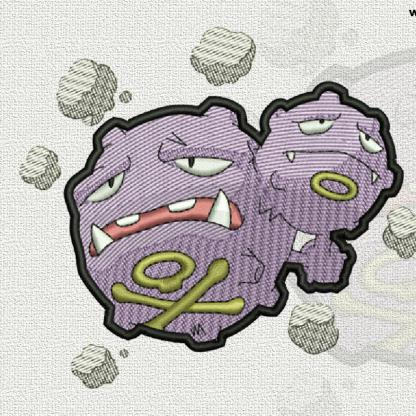Weezing: (32, 49, 416, 365)
